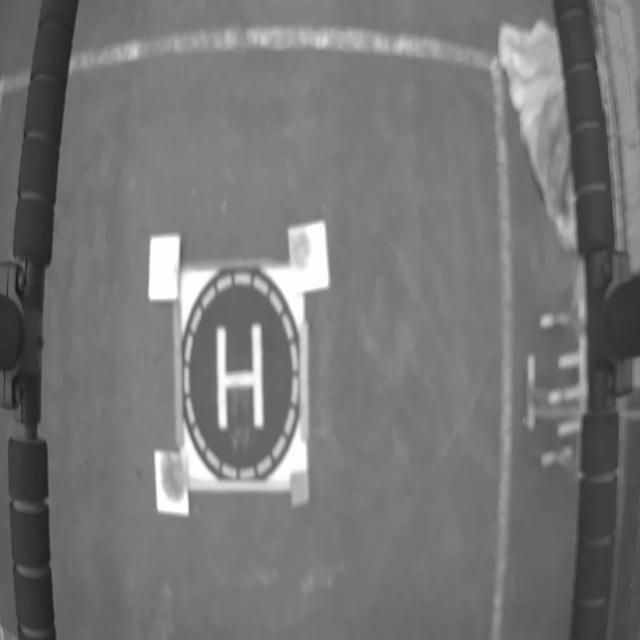Helipad: (216, 323, 264, 430)
